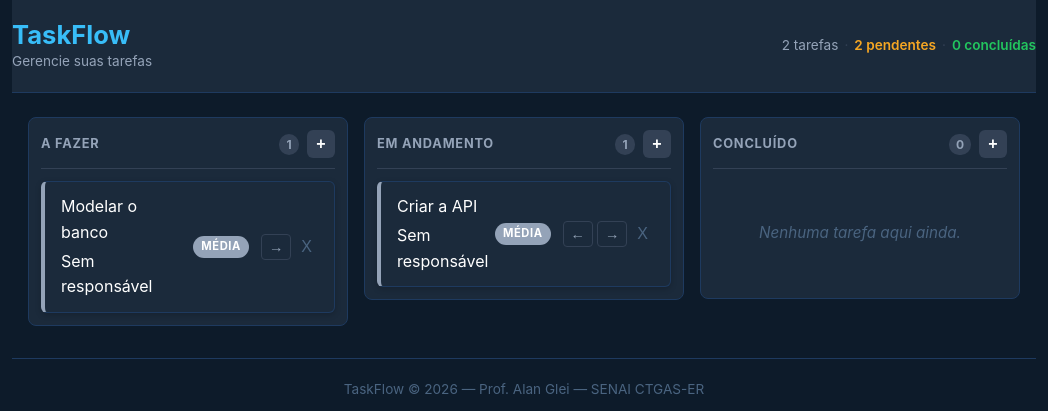
Test case: Kanban › clicar no X da primeira tarefa chama api.delete com /tarefas/1 e a tarefa some
Expected: the text "Modelar o banco" is shown, [61,196,137,242]
Step 1. Click the button "X" below "Modelar o banco" → (307, 247), box [295,237,318,257]
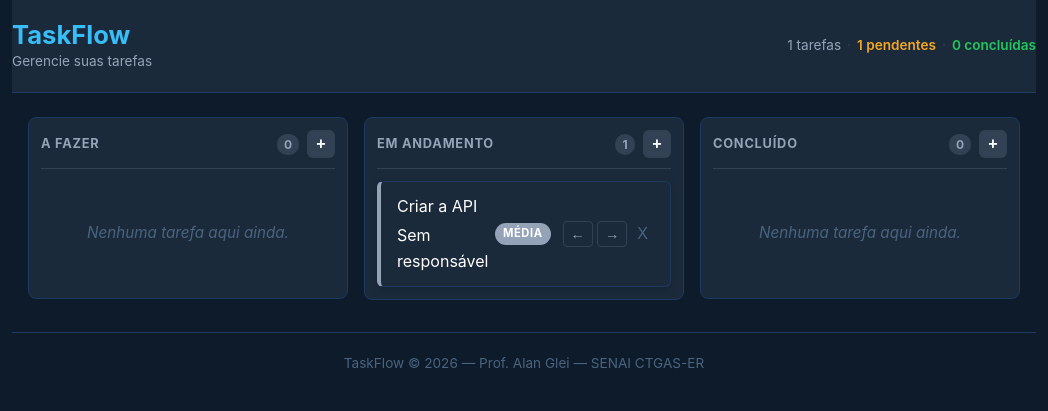
Expected: the text "Modelar o banco" is gone
